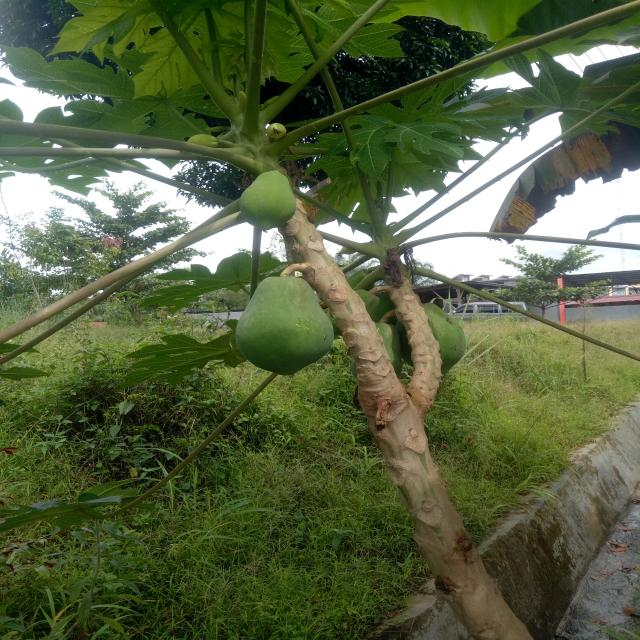Pepaya unrippen: (241, 274, 332, 384), (236, 169, 305, 241)
